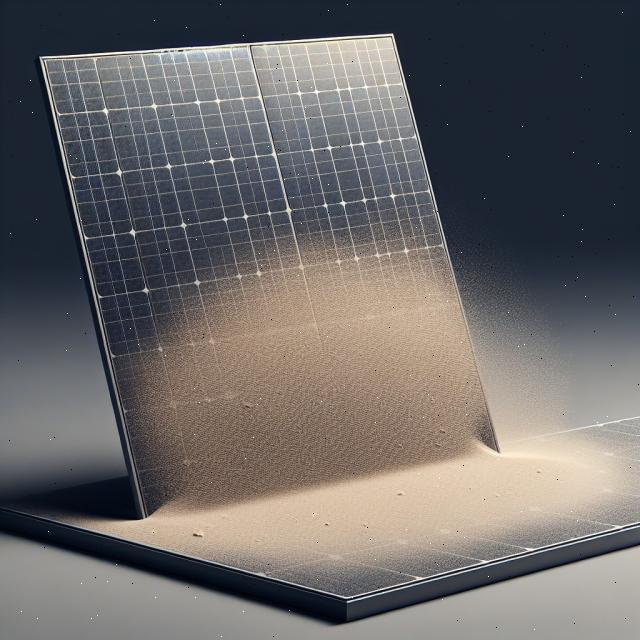Anomaly Solar Panel: (43, 0, 499, 519)
Surface Contaminant: (95, 195, 497, 515)
